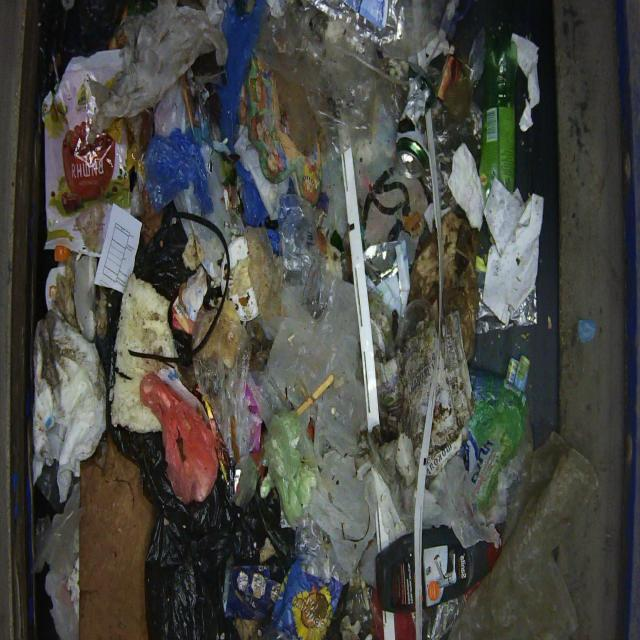bottles: (477, 21, 518, 198)
other-trash: (29, 0, 564, 638)
